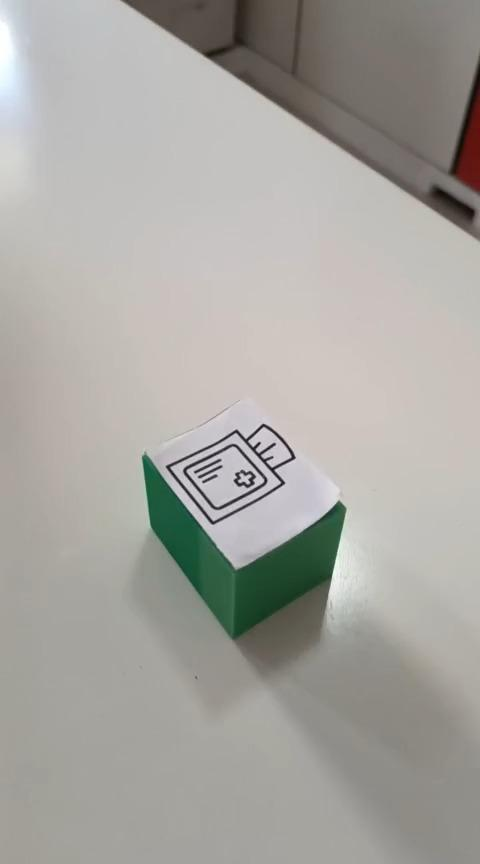Gauze: (140, 395, 347, 639)
